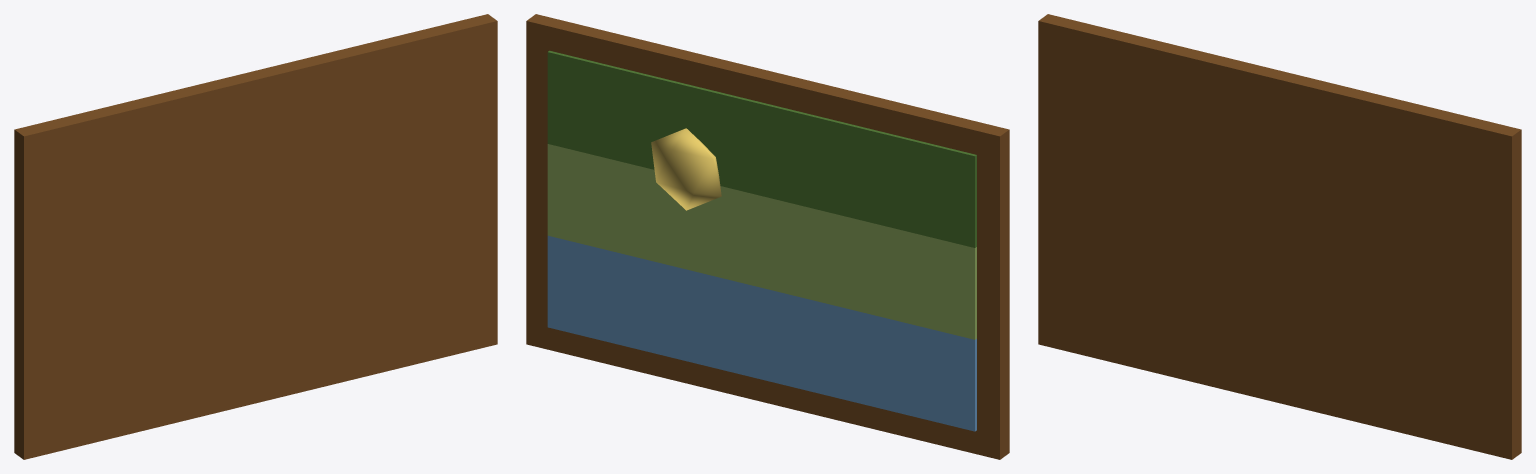
The model's file is land_v0.glb.
3 renders of one model, left to right at view 1: azimuth 30°, elevation 25°; view 2: azimuth 150°, elevation 25°; view 3: azimuth 330°, elevation 25°, orthographic.
Visible parts, largest first — view 1: land_v0; view 2: land_v0; view 3: land_v0.
Part boxes in pixels (left/top/right/bottom): land_v0: left=14, top=14, right=497, bottom=459; land_v0: left=526, top=14, right=1009, bottom=459; land_v0: left=1038, top=14, right=1521, bottom=459.
Size of the model in its own units: 1.44 by 0.94 by 0.0803.
